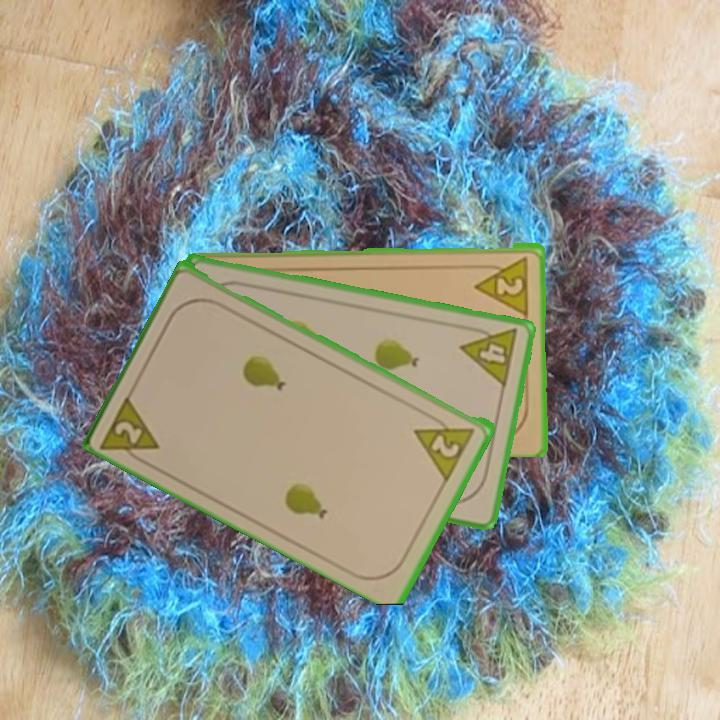2p: (97, 389, 164, 470), (411, 410, 479, 482), (472, 251, 532, 316)
4p: (457, 321, 521, 390)
